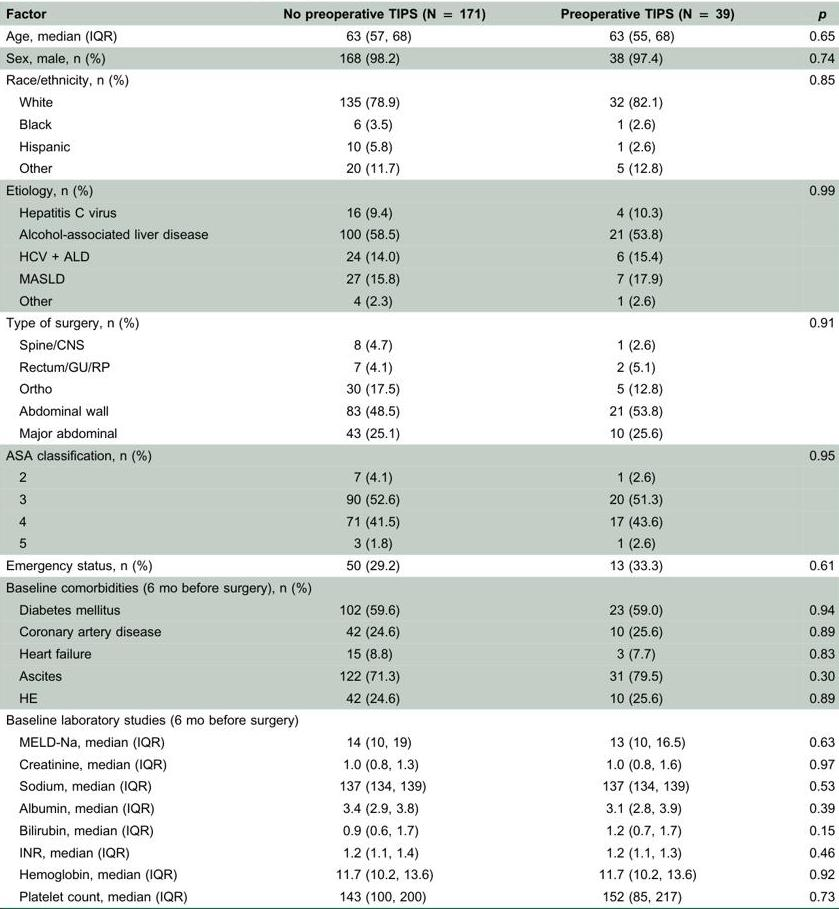table: (5, 4, 834, 904)
table column: (245, 4, 522, 904), (522, 4, 771, 904), (5, 4, 245, 904), (771, 4, 834, 904)
table column header: (5, 4, 834, 24)
table projected row header: (5, 576, 834, 598), (5, 708, 834, 730)
table row: (5, 156, 834, 179), (5, 487, 834, 510), (5, 818, 834, 841), (5, 24, 834, 46), (5, 46, 834, 68), (5, 68, 834, 90), (5, 90, 834, 112), (5, 112, 834, 134), (5, 134, 834, 156), (5, 179, 834, 201), (5, 201, 834, 223), (5, 223, 834, 245), (5, 245, 834, 267), (5, 267, 834, 289), (5, 289, 834, 311), (5, 311, 834, 333), (5, 333, 834, 355), (5, 355, 834, 377), (5, 377, 834, 399), (5, 399, 834, 421), (5, 421, 834, 443), (5, 443, 834, 465), (5, 465, 834, 487), (5, 510, 834, 532), (5, 532, 834, 554), (5, 554, 834, 576), (5, 576, 834, 598), (5, 598, 834, 620), (5, 620, 834, 642), (5, 642, 834, 664), (5, 664, 834, 686), (5, 686, 834, 708), (5, 708, 834, 730), (5, 730, 834, 752), (5, 752, 834, 774), (5, 774, 834, 796), (5, 796, 834, 818), (5, 841, 834, 863), (5, 863, 834, 885), (5, 4, 834, 24), (5, 885, 834, 904)
